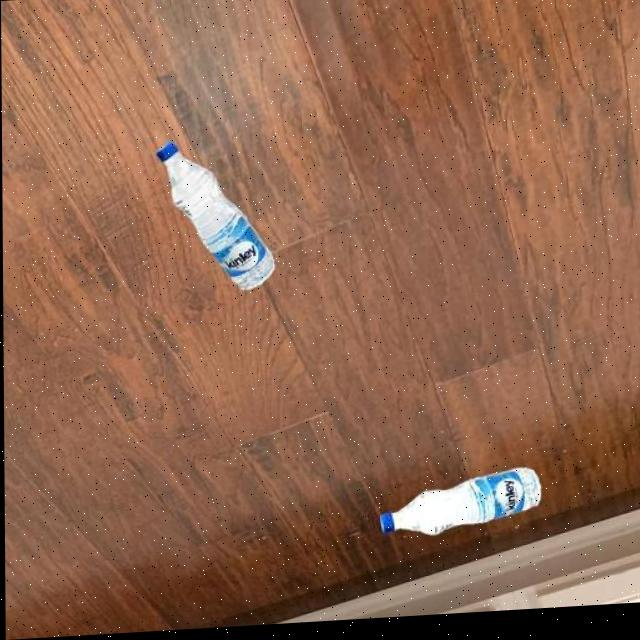bottle: (155, 137, 276, 299), (376, 471, 542, 545)
